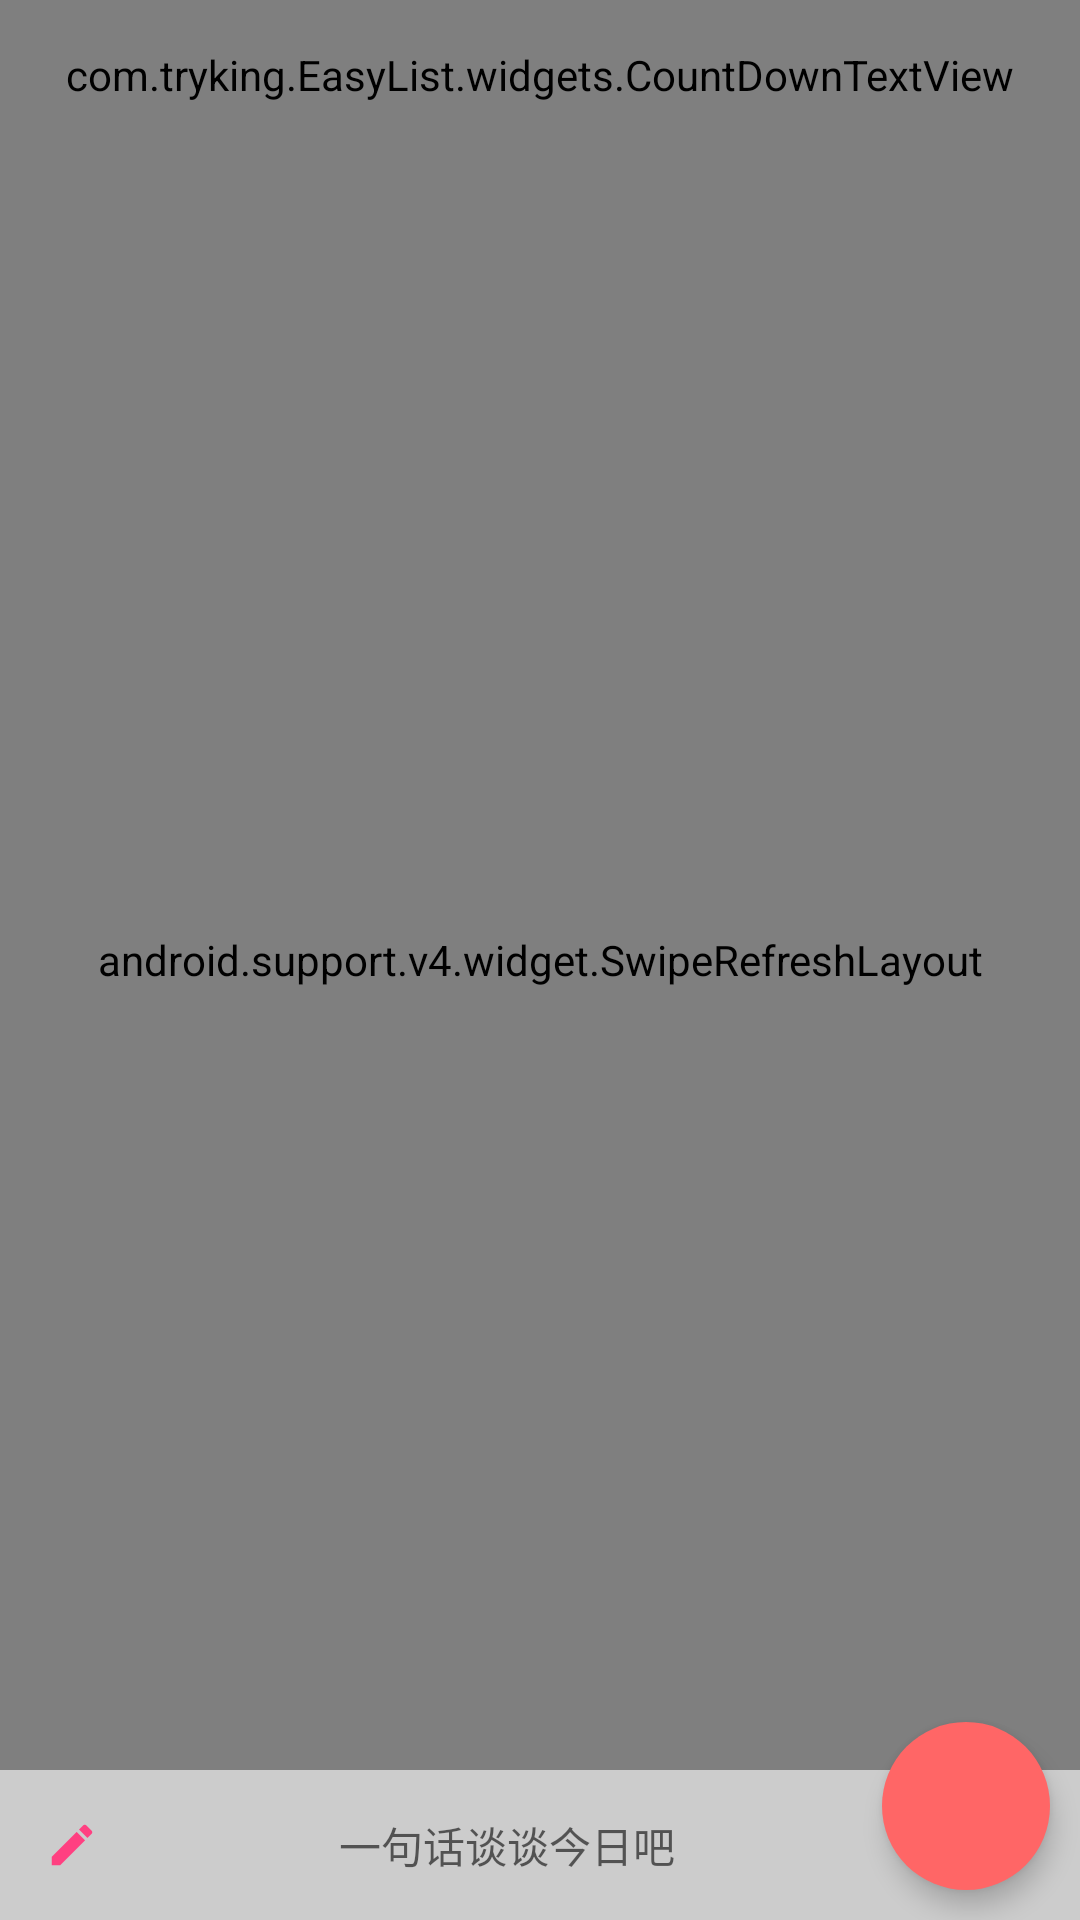

Where icons sit on this 1080×1920 app screen, as box=[x1, y1, x2, y2]:
edit: box=[51, 1824, 93, 1866]
